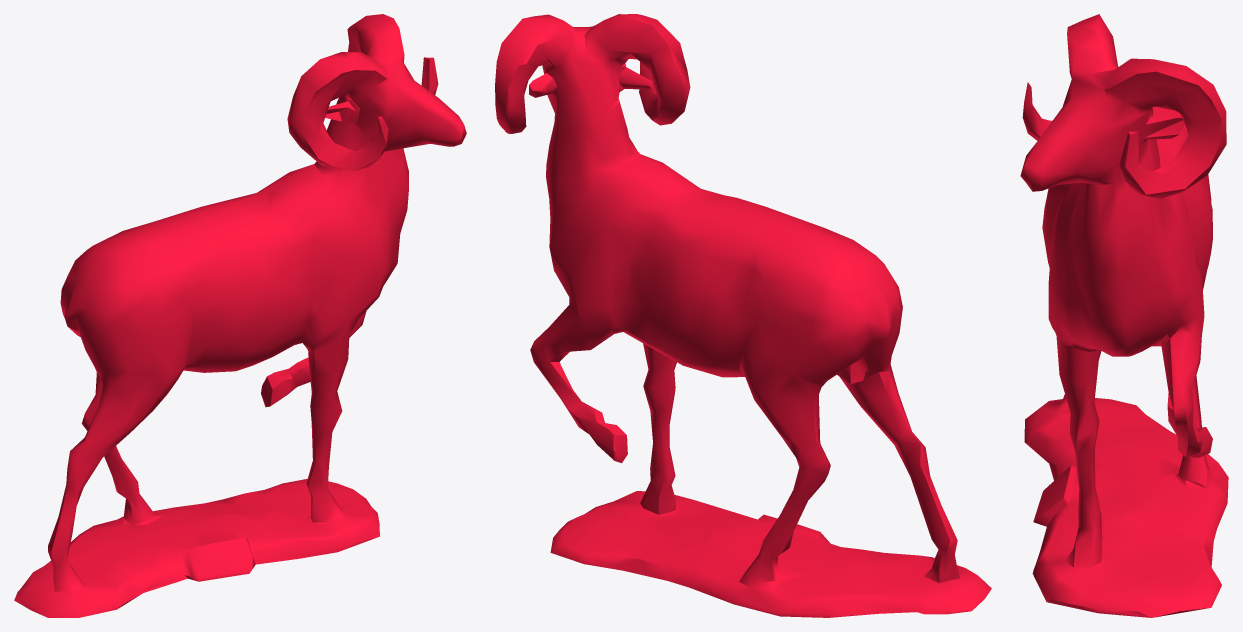
File: ram.gltf
3 views of the same model, side by side, from view 1: azimuth 30°, elevation 25°; view 2: azimuth 150°, elevation 25°; view 3: azimuth 270°, elevation 25° (orthographic). The views are drawn at different scales.
Parts seen in each view (by area): view 1: geo1_MAT_Animal_Ram_Rhody_0; view 2: geo1_MAT_Animal_Ram_Rhody_0; view 3: geo1_MAT_Animal_Ram_Rhody_0.
Boxes of the visible parts, x1=… form: geo1_MAT_Animal_Ram_Rhody_0: x1=14, y1=14, x2=466, y2=617; geo1_MAT_Animal_Ram_Rhody_0: x1=495, y1=14, x2=991, y2=617; geo1_MAT_Animal_Ram_Rhody_0: x1=1020, y1=14, x2=1228, y2=617.
Size of the model in its own units: 1.52 by 1.59 by 0.5289.
